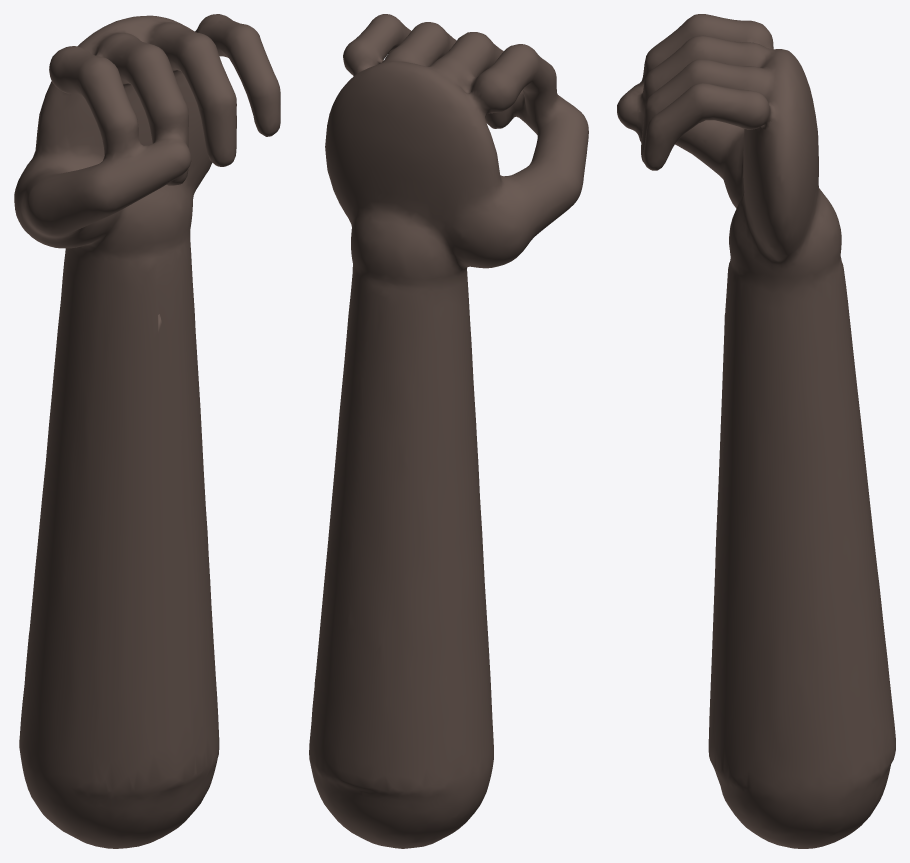
Rendered from hand-blockout.glb.
The picture shows the model from 3 angles, left to right: view 1: azimuth 30°, elevation 25°; view 2: azimuth 150°, elevation 25°; view 3: azimuth 270°, elevation 25°; orthographic projection. The views are drawn at different scales.
Visible parts, largest first — view 1: HandBlockout; view 2: HandBlockout; view 3: HandBlockout.
Part boxes in pixels (<box>): HandBlockout: <box>14,14,280,848</box>; HandBlockout: <box>309,14,588,848</box>; HandBlockout: <box>617,14,895,848</box>.
Size of the model in its own units: 115 by 400 by 128.
